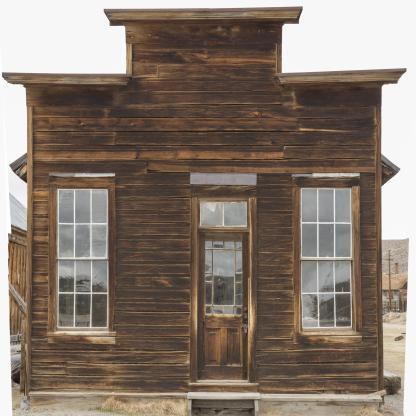Building Outline: (2, 6, 407, 416)
Cornice: (191, 173, 257, 185), (48, 173, 116, 177), (292, 173, 360, 177)
Door: (198, 230, 248, 379)
Facade: (2, 5, 407, 415)
Ground Floor: (27, 87, 381, 393)
Window: (57, 189, 108, 331), (301, 189, 352, 331), (198, 200, 248, 227)
